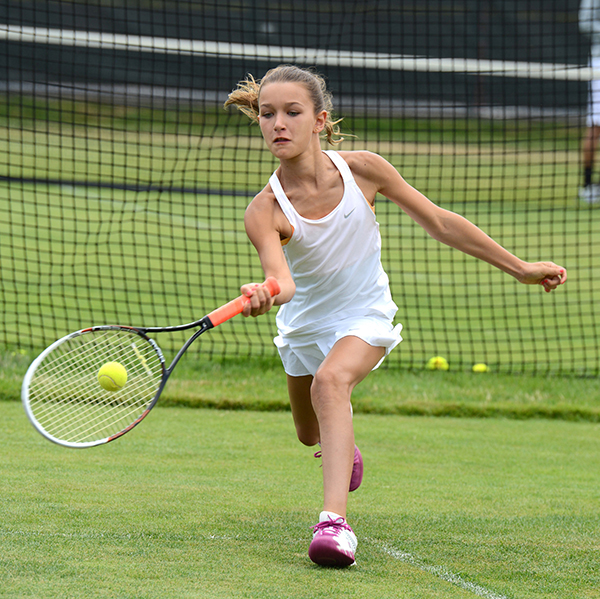tennis ball: (97, 361, 131, 392)
tennis player: (223, 58, 569, 572)
